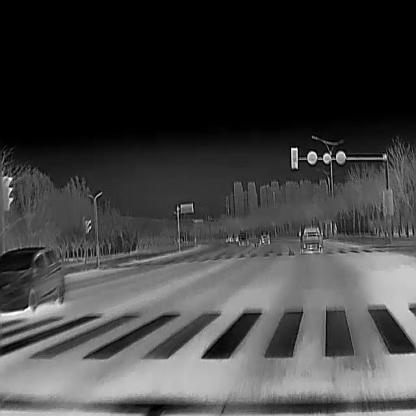car: (0, 245, 65, 314), (298, 225, 323, 253), (258, 230, 270, 244), (238, 231, 246, 240), (232, 233, 239, 241), (226, 233, 232, 241)
